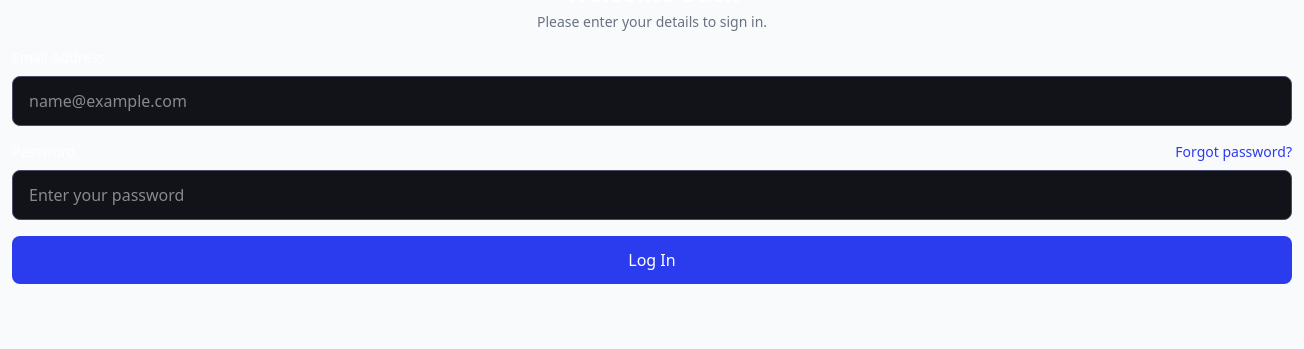
LoginForm - Integration Tests › should validate required email field
Click the button "Log In". click: (652,260)
box: [12, 236, 1292, 284]
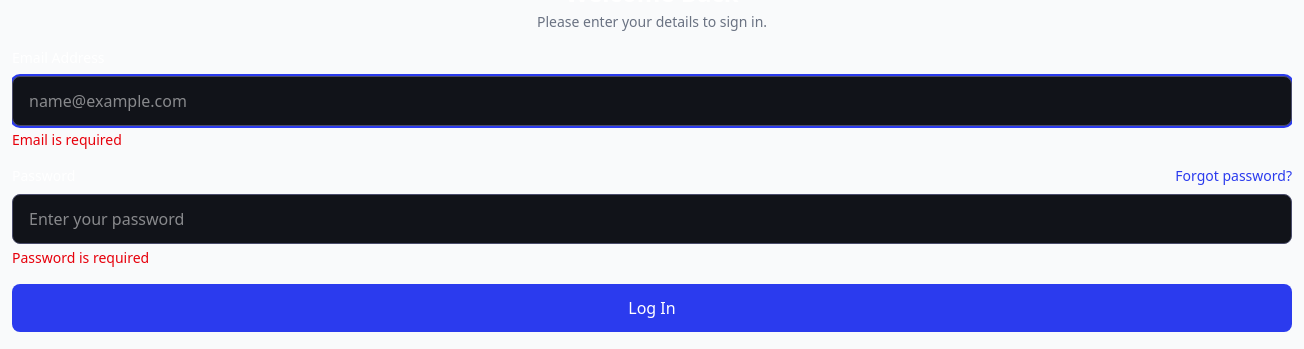
Now the text "Email is required" is shown, box [12, 130, 122, 149]
